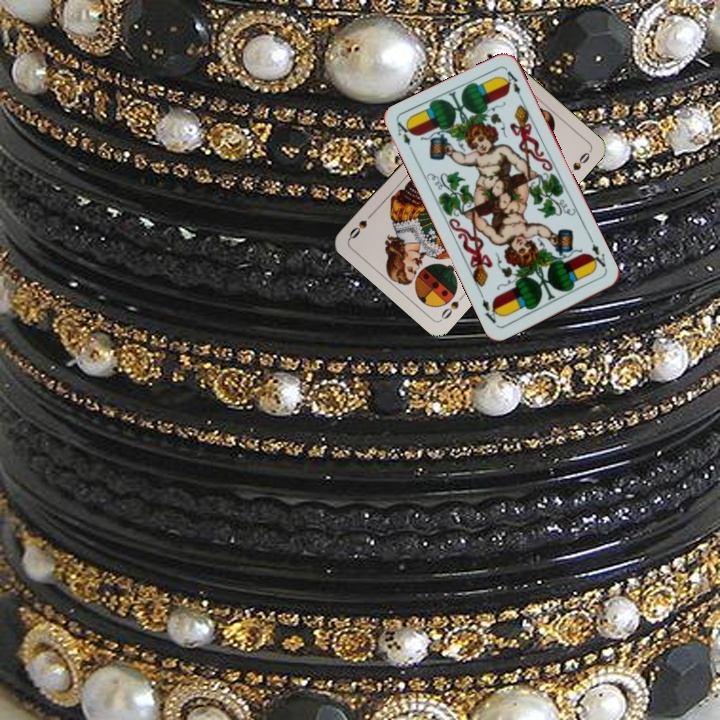EA: (393, 118, 417, 157), (585, 235, 608, 271)
SO: (437, 290, 468, 322)
